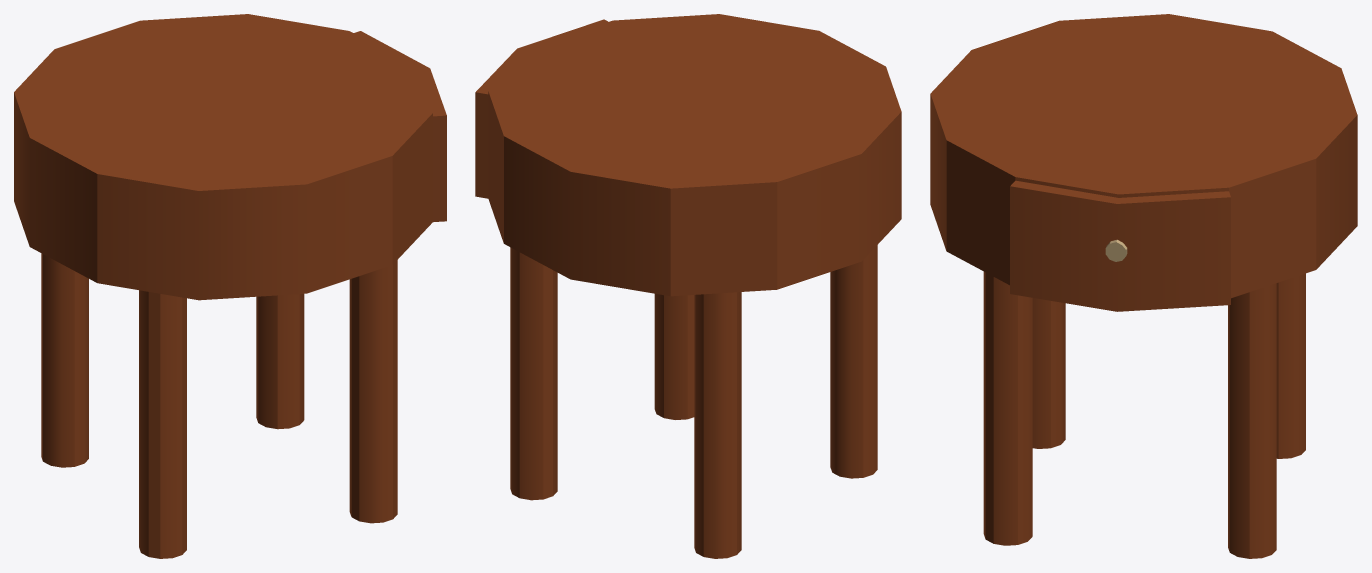
Rendered from Table-nuit.glb.
3 views of the same model, side by side, from view 1: azimuth 30°, elevation 25°; view 2: azimuth 150°, elevation 25°; view 3: azimuth 270°, elevation 25° (orthographic). The views are drawn at different scales.
Visible parts, largest first — view 1: table nuit d; view 2: table nuit d; view 3: table nuit d.
Part boxes in pixels (bbox=[...]): table nuit d: bbox=[14, 14, 446, 558]; table nuit d: bbox=[475, 14, 901, 558]; table nuit d: bbox=[930, 14, 1357, 558].
Size of the model in its own units: 0.6315 by 0.6016 by 0.5975.
